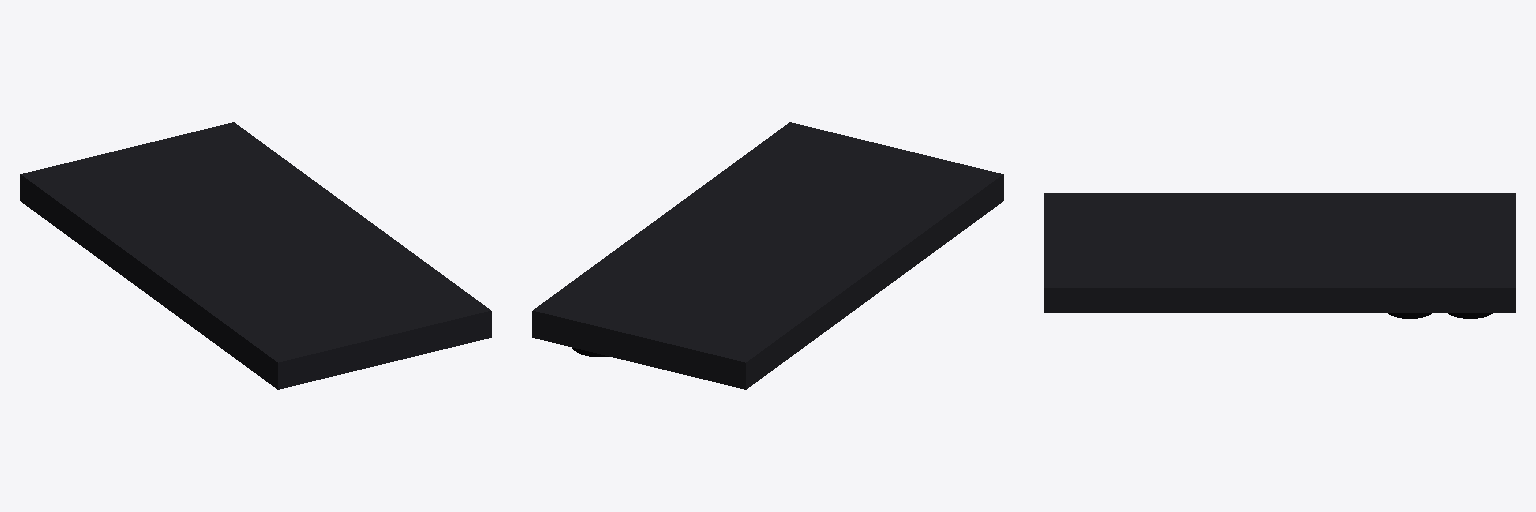
robot.urdf — iphone_18_pro:
<?xml version="1.0"?>
<!-- iPhone 18 Pro: generated by imuninn from Apple's dimensional drawings (iphone-frames dataset). Frames: device = display centre on the front glass (x right, y top, z out of the screen); cam_*_optical = OpenCV axes. Geometry and mass are approximate. -->
<robot name="iphone_18_pro">
  <material name="iphone_body">
    <color rgba="0.15 0.15 0.17 1" />
  </material>
  <material name="iphone_lens">
    <color rgba="0.05 0.05 0.06 1" />
  </material>
  <link name="device">
    <visual name="body">
      <origin xyz="0 0 -0.004375" rpy="0 0 0" />
      <geometry>
        <box size="0.07185 0.15001 0.00875" />
      </geometry>
      <material name="iphone_body" />
    </visual>
    <collision name="body">
      <origin xyz="0 0 -0.004375" rpy="0 0 0" />
      <geometry>
        <box size="0.07185 0.15001 0.00875" />
      </geometry>
    </collision>
    <visual name="lens_ultra_wide">
      <origin xyz="0.021555 0.060635 -0.011195" rpy="0 0 0" />
      <geometry>
        <cylinder radius="0.00829" length="0.00489" />
      </geometry>
      <material name="iphone_lens" />
    </visual>
    <visual name="lens_main">
      <origin xyz="0.021555 0.041395 -0.011195" rpy="0 0 0" />
      <geometry>
        <cylinder radius="0.00829" length="0.00489" />
      </geometry>
      <material name="iphone_lens" />
    </visual>
    <visual name="lens_telephoto">
      <origin xyz="0.003435 0.051015 -0.011195" rpy="0 0 0" />
      <geometry>
        <cylinder radius="0.00829" length="0.00489" />
      </geometry>
      <material name="iphone_lens" />
    </visual>
    <inertial>
      <origin xyz="0 0 -0.004375" rpy="0 0 0" />
      <mass value="0.217" />
      <inertia ixx="0.000408314" ixy="0" ixz="0" iyy="9.47383e-05" iyz="0" izz="0.000500283" />
    </inertial>
  </link>
  <link name="magsafe" />
  <joint name="device_to_magsafe" type="fixed">
    <parent link="device" />
    <child link="magsafe" />
    <origin xyz="5e-06 -0.002735 -0.00875" rpy="3.14159265 0 3.14159265" />
  </joint>
  <link name="cam_ultra_wide_optical" />
  <joint name="device_to_cam_ultra_wide_optical" type="fixed">
    <parent link="device" />
    <child link="cam_ultra_wide_optical" />
    <origin xyz="0.021555 0.060635 -0.01364" rpy="3.14159265 0 -1.57079633" />
  </joint>
  <link name="cam_main_optical" />
  <joint name="device_to_cam_main_optical" type="fixed">
    <parent link="device" />
    <child link="cam_main_optical" />
    <origin xyz="0.021555 0.041395 -0.01364" rpy="3.14159265 0 -1.57079633" />
  </joint>
  <link name="cam_telephoto_optical" />
  <joint name="device_to_cam_telephoto_optical" type="fixed">
    <parent link="device" />
    <child link="cam_telephoto_optical" />
    <origin xyz="0.003435 0.051015 -0.01364" rpy="3.14159265 0 -1.57079633" />
  </joint>
  <link name="cam_front_optical" />
  <joint name="device_to_cam_front_optical" type="fixed">
    <parent link="device" />
    <child link="cam_front_optical" />
    <origin xyz="0.004905 0.067015 0" rpy="0 0 -1.57079633" />
  </joint>
  <link name="imu" />
  <joint name="device_to_imu" type="fixed">
    <parent link="device" />
    <child link="imu" />
    <origin xyz="0 0 0" rpy="0 0 0" />
  </joint>
</robot>

--- Render facts (derived) ---
The picture shows the robot from 3 angles, left to right: view 1: azimuth 30°, elevation 25°; view 2: azimuth 150°, elevation 25°; view 3: azimuth 270°, elevation 25°; orthographic projection.
Model iphone_18_pro with 7 links and 6 joints (6 fixed), rooted at device, posed every joint at zero.
Visible links, largest first — view 1: device; view 2: device; view 3: device.
Link boxes in pixels (x1,y1,x2,y2): device: [20, 122, 491, 389]; device: [532, 122, 1003, 389]; device: [1044, 193, 1515, 318].
Bounding box of the posed robot: 0.0719 × 0.15 × 0.0136 m (x, y, z).
Geometry: primitives only (box / cylinder / sphere), no mesh files.
